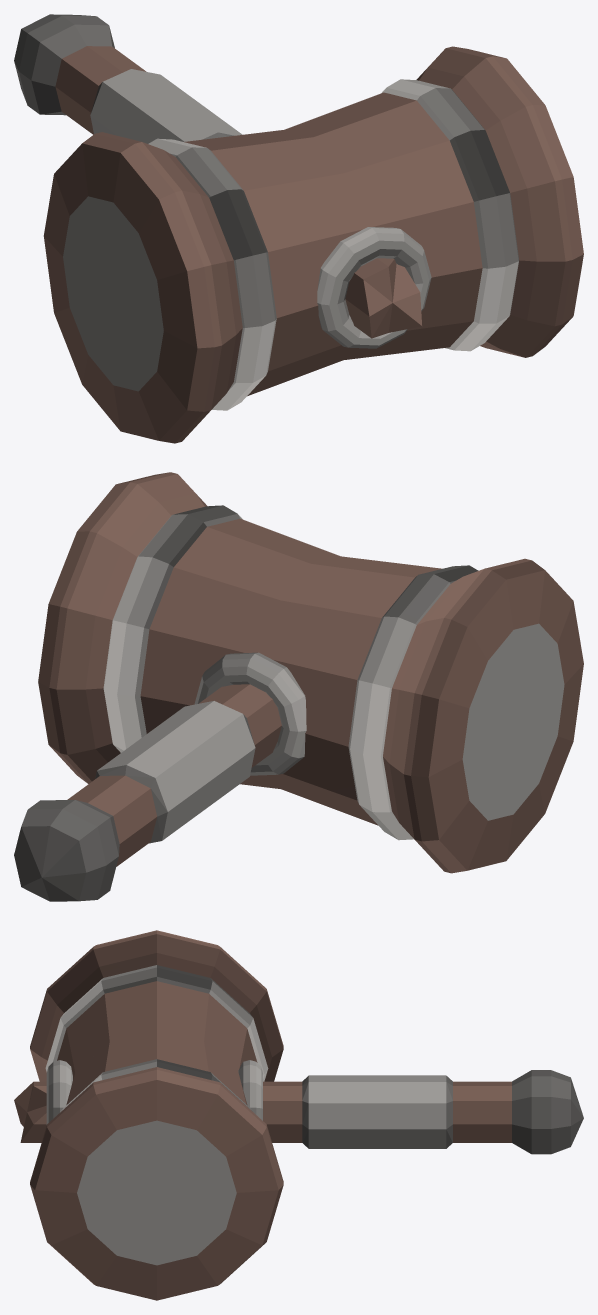
The model's file is bracer_leather.glb.
3 views of the same model, one above another, from view 1: azimuth 30°, elevation 25°; view 2: azimuth 150°, elevation 25°; view 3: azimuth 270°, elevation 25° (orthographic). The views are drawn at different scales.
Visible parts, largest first — view 1: group621899980; view 2: group621899980; view 3: group621899980.
Part boxes in pixels (x1,y1,x2,y2): group621899980: (14, 14, 583, 443); group621899980: (14, 472, 583, 901); group621899980: (14, 930, 583, 1300).
Bounding box in the file's own units: 0.252 × 0.1742 × 0.3915.
